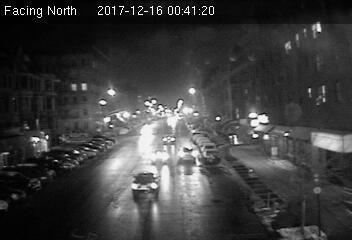car: (131, 170, 159, 196), (178, 144, 198, 165), (200, 148, 220, 164), (161, 134, 176, 144)
